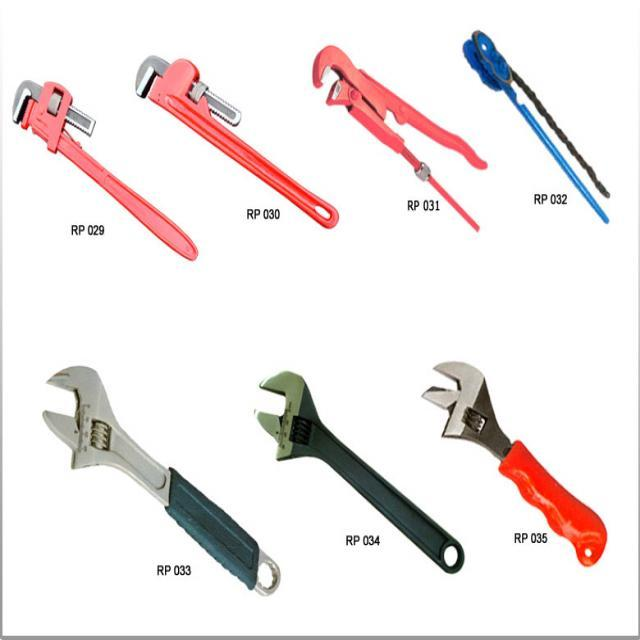wrench: (39, 357, 280, 613), (250, 363, 466, 579), (417, 344, 613, 573), (302, 36, 493, 238), (132, 52, 343, 233), (6, 75, 203, 268)
